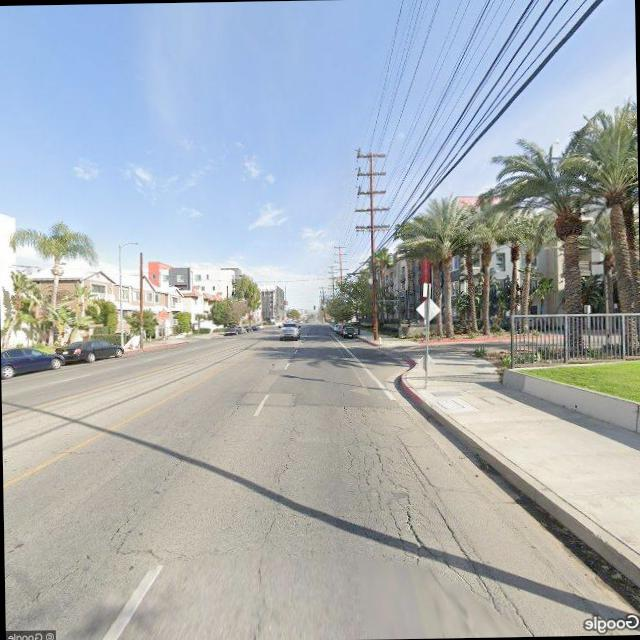crack: (314, 392, 518, 609)
pothole: (12, 422, 213, 613), (235, 394, 308, 636)
